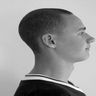ear: (37, 28, 62, 54)
